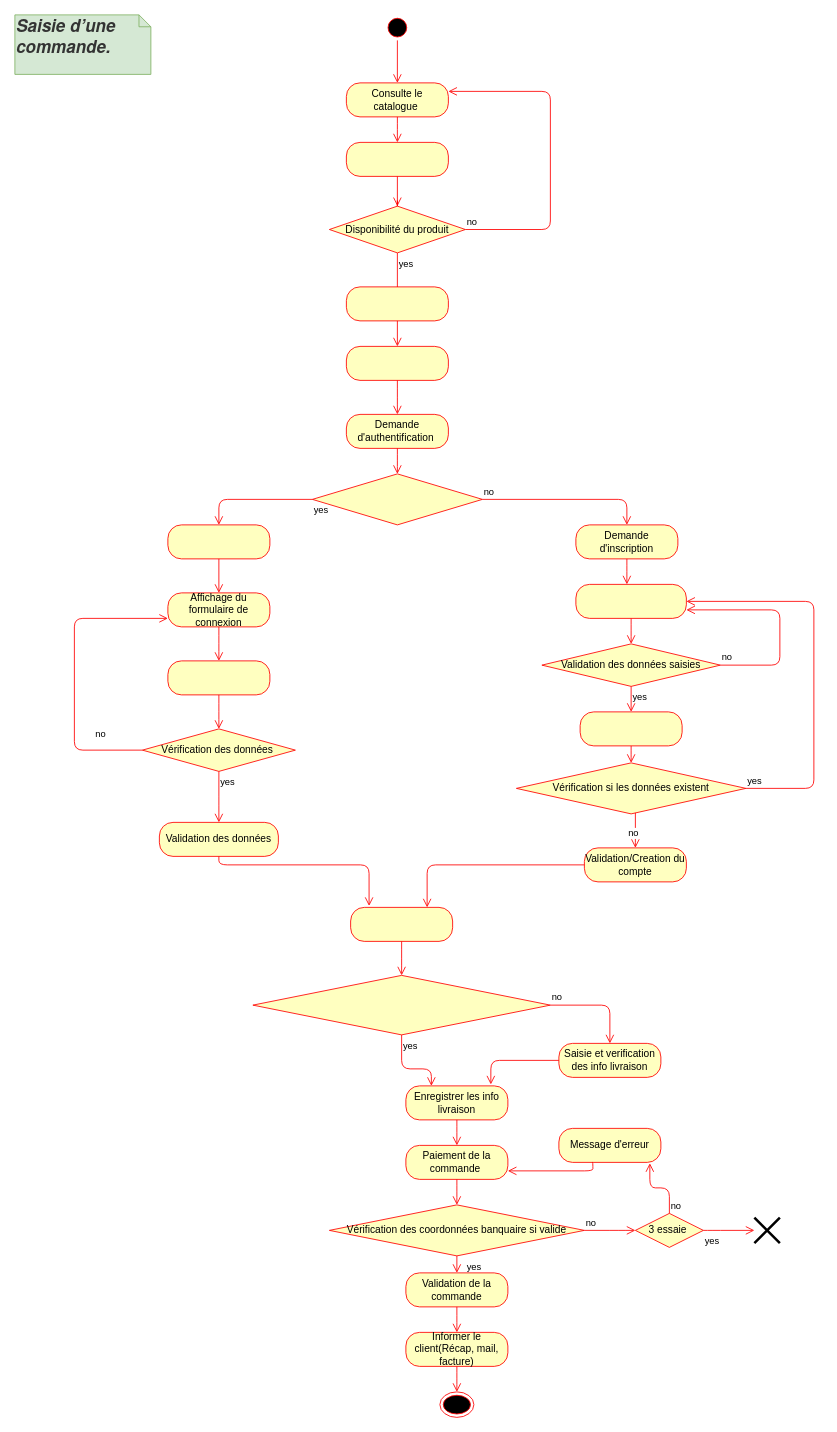
Image size: 837x1432. Some labels were removed from this diagram. Here are the shapes that lost their labels. From the top down, the centre of each, then its label:
At (397,159): "Selectionne un produit".
At (397,303): "Ajout au panier".
At (397,363): "Validation du panier".
At (397,499): "Le client possède un compte".
At (218,541): "Demande de connexion".
At (630,601): "Remplissage du formulaire d'inscription".
At (218,677): "Remplissage du formulaire de connexion".
At (630,728): "Envoie à la base de données".
At (401,924): "Passage de comande".
At (401,1005): "Demande de vérification des informations sur la livraison".
